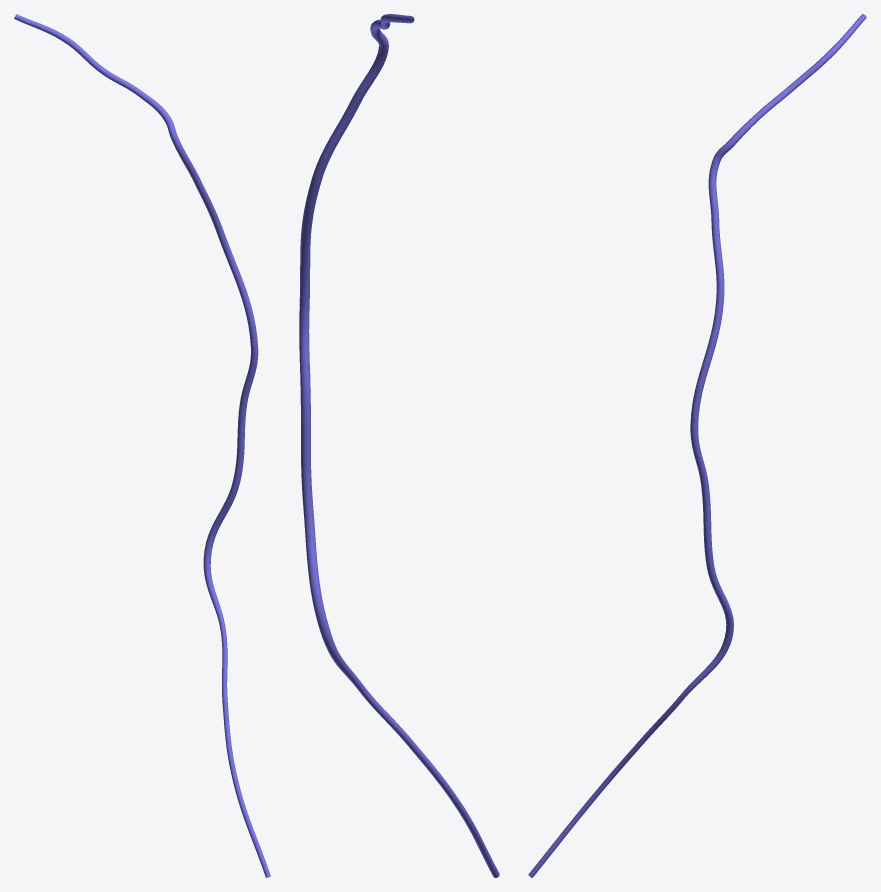
The model's file is Vertebral_vein.r_BezierCurve.477.glb.
3 views of the same model, side by side, from view 1: azimuth 30°, elevation 25°; view 2: azimuth 150°, elevation 25°; view 3: azimuth 270°, elevation 25° (orthographic). The views are drawn at different scales.
Visible parts, largest first — view 1: Vertebral_vein.r_BezierCurve.477; view 2: Vertebral_vein.r_BezierCurve.477; view 3: Vertebral_vein.r_BezierCurve.477.
Boxes of the visible parts, left/top/right/bottom form: Vertebral_vein.r_BezierCurve.477: left=14, top=14, right=270, bottom=877; Vertebral_vein.r_BezierCurve.477: left=299, top=14, right=499, bottom=877; Vertebral_vein.r_BezierCurve.477: left=528, top=14, right=866, bottom=877.
Size of the model in its own units: 0.0347 by 0.1564 by 0.0588.
